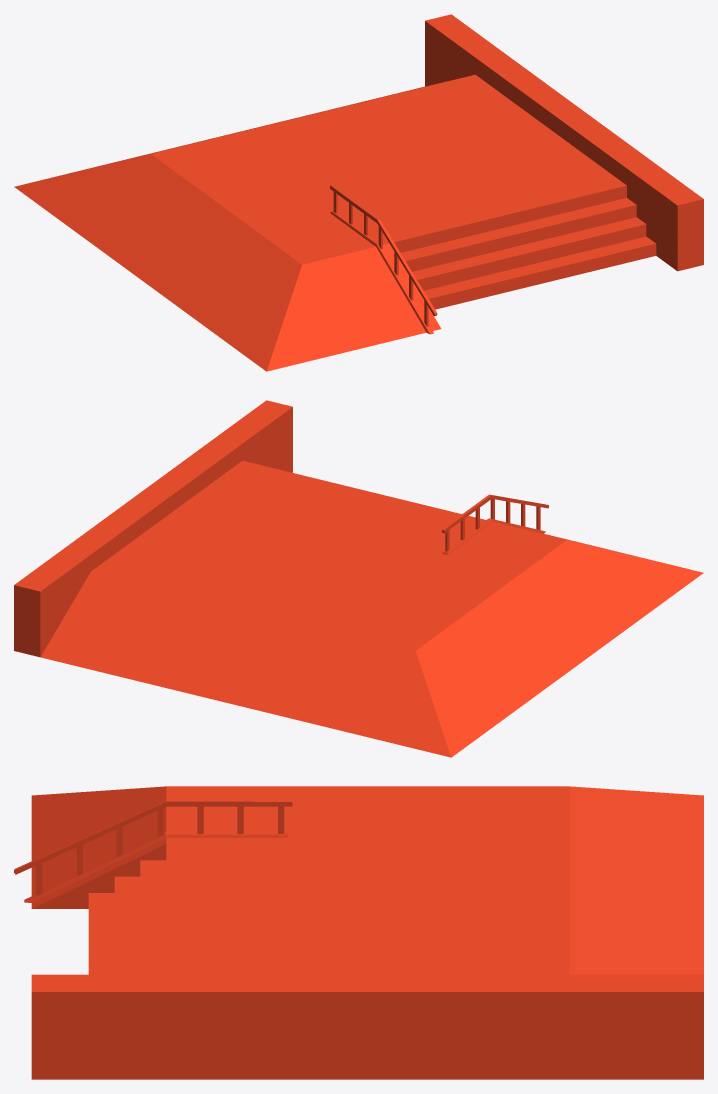
File: SM_Skate_Pyramid_B_City.fbx
The picture shows the model from 3 angles, top to bottom: view 1: azimuth 30°, elevation 25°; view 2: azimuth 150°, elevation 25°; view 3: azimuth 270°, elevation 25°; orthographic projection. The views are drawn at different scales.
Visible parts, largest first — view 1: SM_Skate_Pyramid_B_City; view 2: SM_Skate_Pyramid_B_City; view 3: SM_Skate_Pyramid_B_City.
Boxes of the visible parts, x1,y1,x2,y2 form: SM_Skate_Pyramid_B_City: (14,14,703,371); SM_Skate_Pyramid_B_City: (14,400,703,757); SM_Skate_Pyramid_B_City: (14,786,703,1079).
Size of the model in its own units: 5 by 0.8236 by 5.13.
